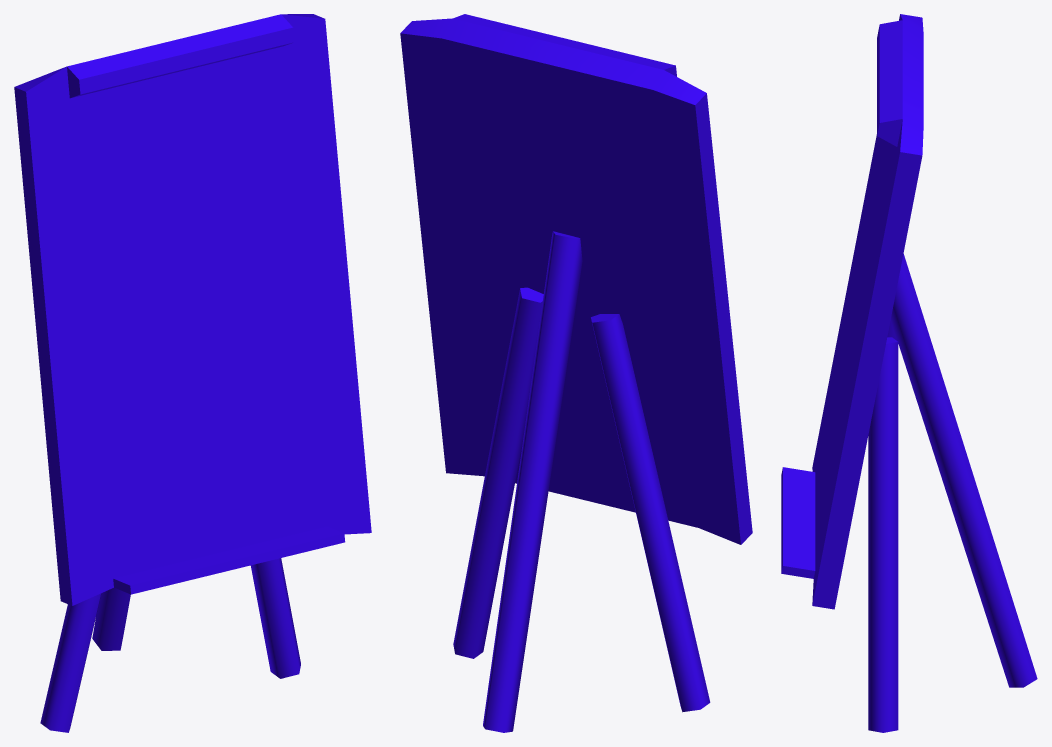
The model's file is office_pack_whiteboard_onLegs_1_meshCollider.fbx.
3 views of the same model, side by side, from view 1: azimuth 30°, elevation 25°; view 2: azimuth 150°, elevation 25°; view 3: azimuth 270°, elevation 25° (orthographic). The views are drawn at different scales.
Parts seen in each view (by area): view 1: office_pack_whiteboard_onLegs_1_meshCollider; view 2: office_pack_whiteboard_onLegs_1_meshCollider; view 3: office_pack_whiteboard_onLegs_1_meshCollider.
Part boxes in pixels (bbox=[...]): office_pack_whiteboard_onLegs_1_meshCollider: bbox=[14, 14, 371, 732]; office_pack_whiteboard_onLegs_1_meshCollider: bbox=[400, 14, 752, 732]; office_pack_whiteboard_onLegs_1_meshCollider: bbox=[781, 14, 1037, 732].
Bounding box in the file's own units: 57.65 × 120 × 45.23.
